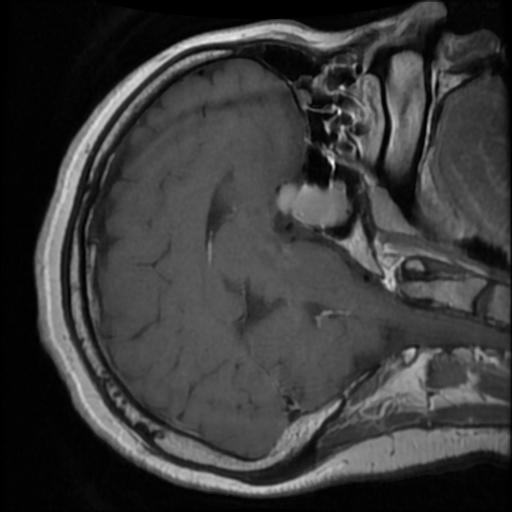pituitary tumour: (277, 180, 347, 228)
